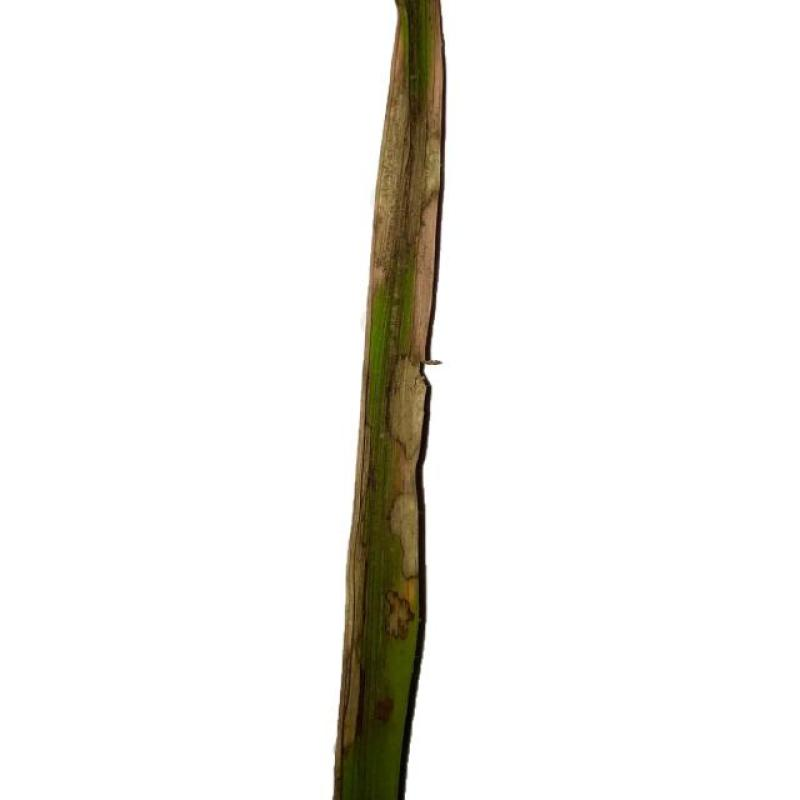Bacterial_Leaf_Blight: (378, 0, 472, 346), (375, 355, 420, 693)
